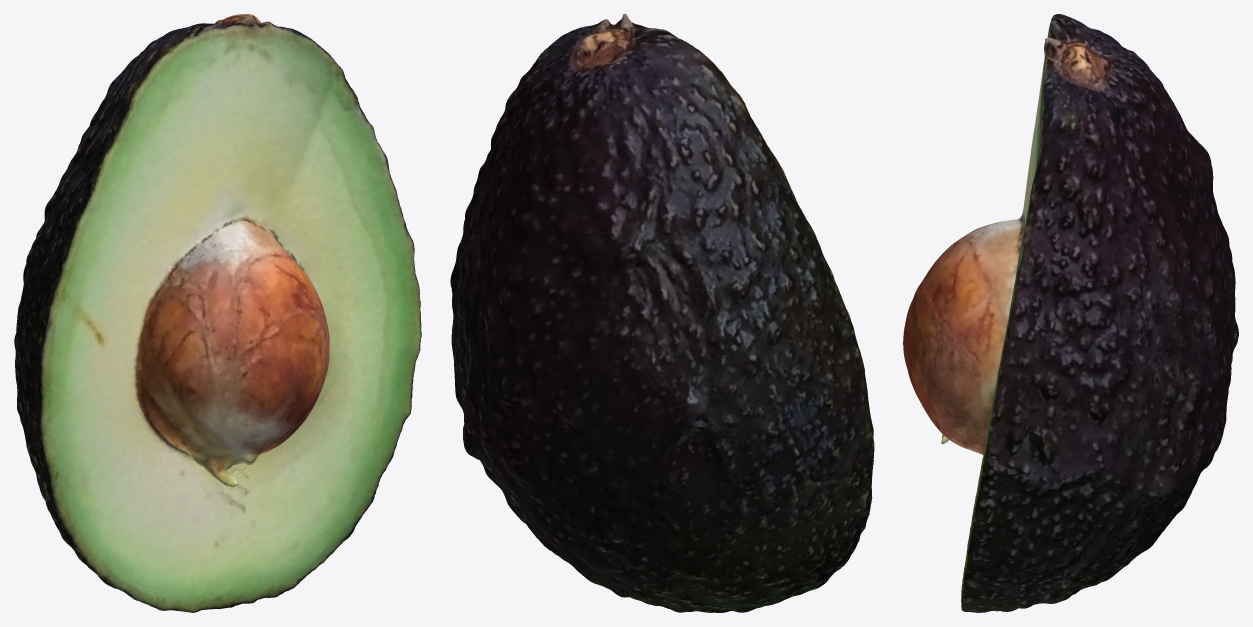
File: avocado-transformed.glb
3 renders of one model, left to right at view 1: azimuth 30°, elevation 25°; view 2: azimuth 150°, elevation 25°; view 3: azimuth 270°, elevation 25°, orthographic. The views are drawn at different scales.
Visible parts, largest first — view 1: Avocado; view 2: Avocado; view 3: Avocado.
Boxes of the visible parts, x1=… form: Avocado: x1=14, y1=14, x2=421, y2=612; Avocado: x1=450, y1=14, x2=874, y2=612; Avocado: x1=903, y1=14, x2=1238, y2=612.
Size of the model in its own units: 66.8 by 95.68 by 49.97.
1 material, 1 textured.
